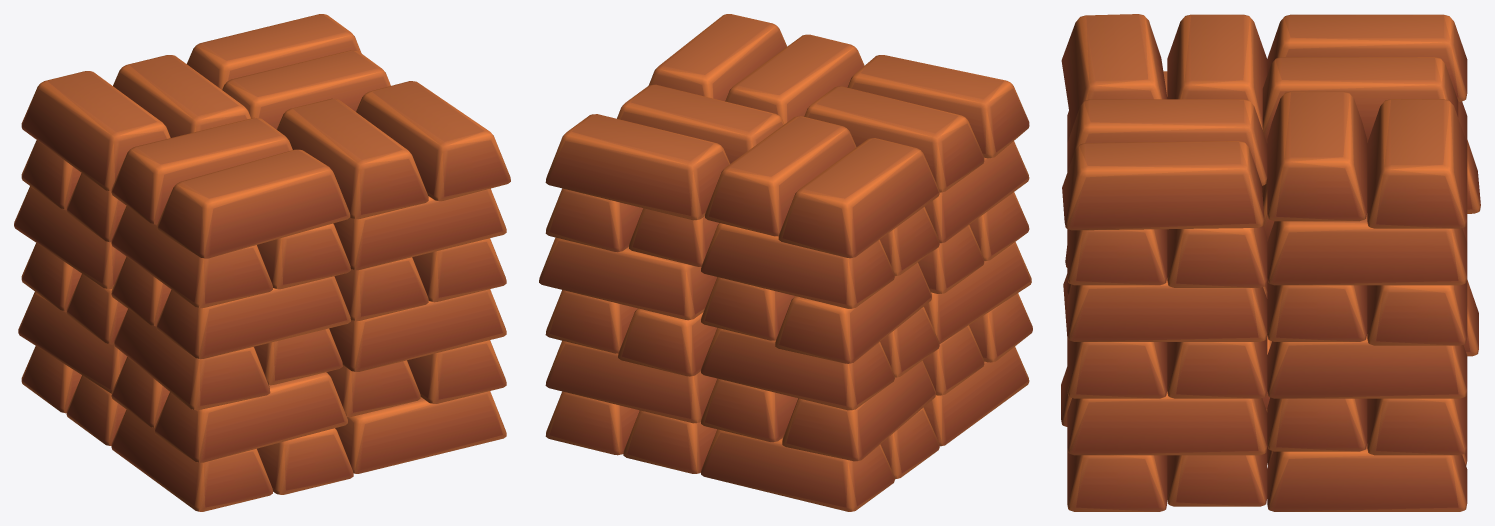
Rendered from copper_bars_stack_large.glb.
3 views of the same model, side by side, from view 1: azimuth 30°, elevation 25°; view 2: azimuth 150°, elevation 25°; view 3: azimuth 270°, elevation 25° (orthographic). The views are drawn at different scales.
Parts seen in each view (by area): view 1: Copper_Bars_Stack_Large; view 2: Copper_Bars_Stack_Large; view 3: Copper_Bars_Stack_Large.
Part boxes in pixels (x1,y1,x2,y2): Copper_Bars_Stack_Large: [14, 14, 510, 511]; Copper_Bars_Stack_Large: [539, 14, 1032, 511]; Copper_Bars_Stack_Large: [1061, 14, 1480, 511].
Size of the model in its own units: 1.66 by 1.5 by 1.68.
1 material, 1 textured.
